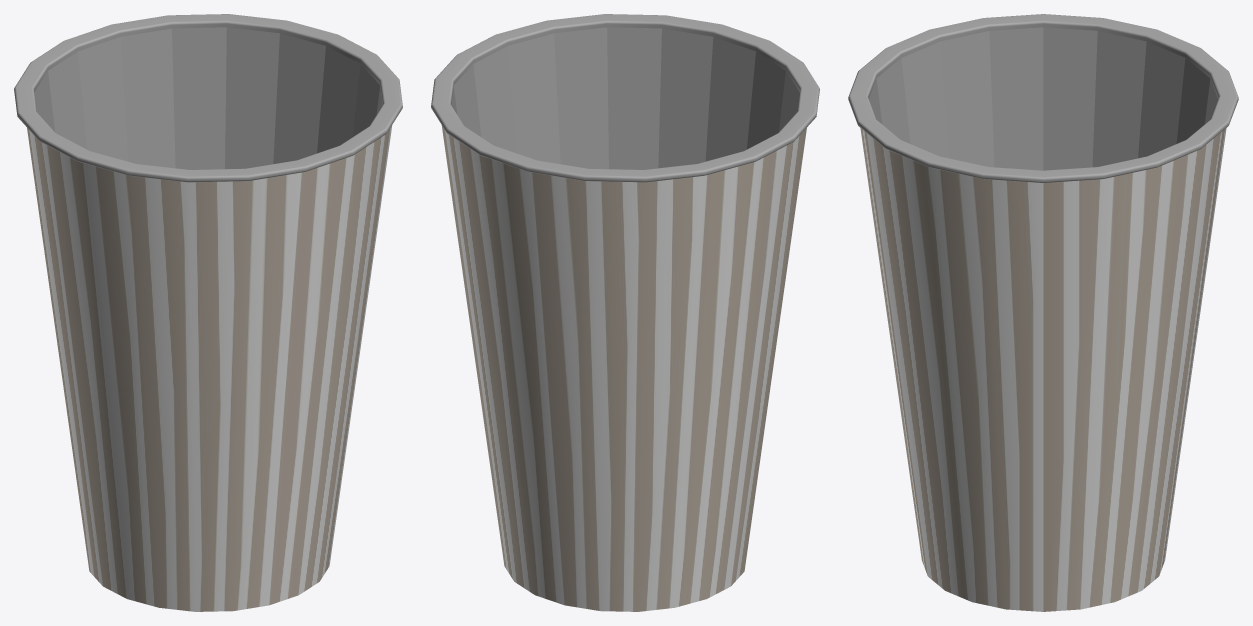
File: Cup2.fbx
3 renders of one model, left to right at view 1: azimuth 30°, elevation 25°; view 2: azimuth 150°, elevation 25°; view 3: azimuth 270°, elevation 25°, orthographic.
Visible parts, largest first — view 1: polySurface7; view 2: polySurface7; view 3: polySurface7.
Part boxes in pixels (left/top/right/bottom): polySurface7: left=14, top=14, right=402, bottom=611; polySurface7: left=431, top=14, right=819, bottom=611; polySurface7: left=848, top=14, right=1238, bottom=611.
Bounding box in the file's own units: 7.71 × 10.12 × 7.71.
2 materials, 1 textured.
